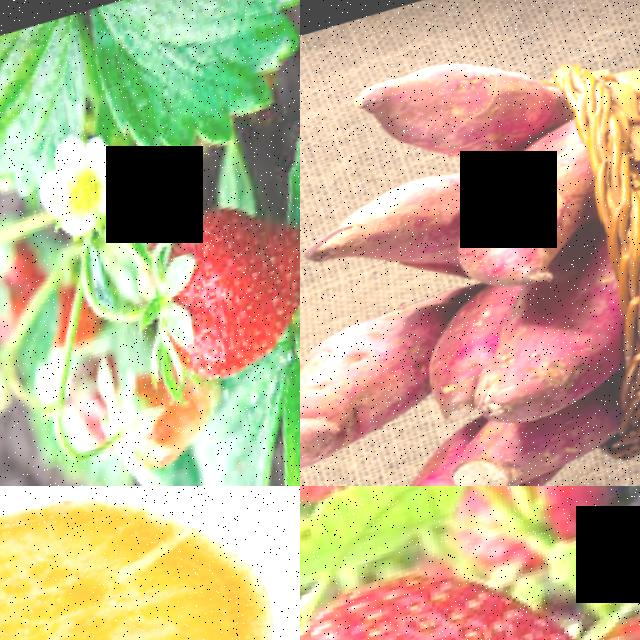strawberry: (136, 196, 300, 398), (300, 536, 587, 640)
sweet potato: (0, 486, 300, 640), (346, 32, 568, 186), (438, 126, 611, 305), (464, 271, 640, 436), (300, 301, 455, 481), (375, 396, 640, 486), (300, 171, 467, 305)
